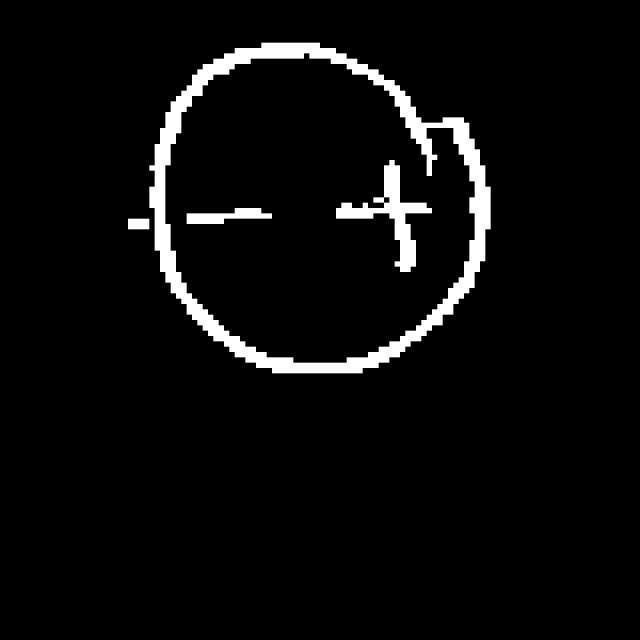voltage_source: (150, 22, 495, 381)
